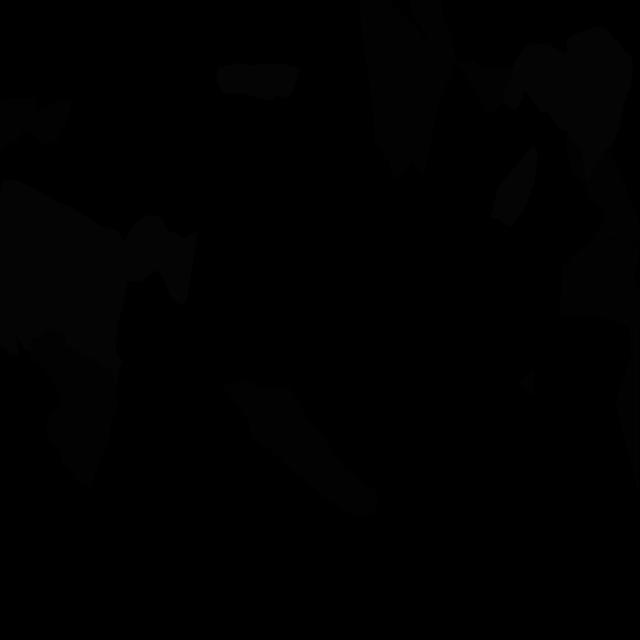cardboard: (559, 227, 640, 496), (222, 380, 378, 518), (359, 0, 455, 179), (30, 329, 118, 488), (409, 0, 513, 114), (566, 131, 640, 246), (0, 97, 73, 152), (516, 369, 534, 397)
soft_plastic: (0, 179, 198, 388), (504, 26, 633, 182), (490, 145, 538, 227), (216, 63, 300, 101)
